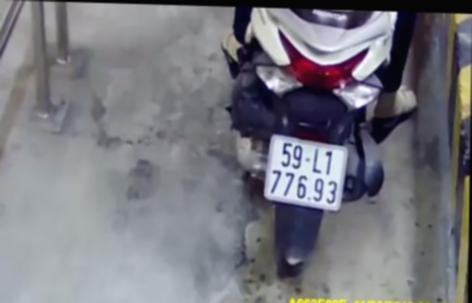License_Plate: (261, 128, 355, 217)
